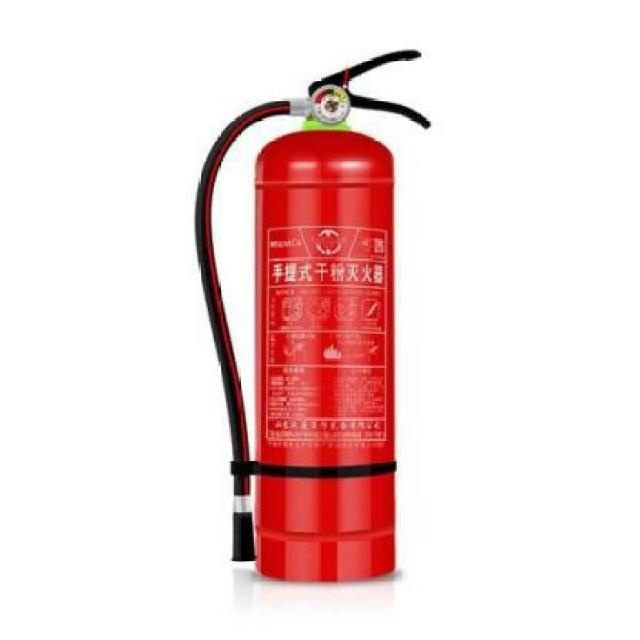fire extinguisher: (194, 48, 432, 583)
